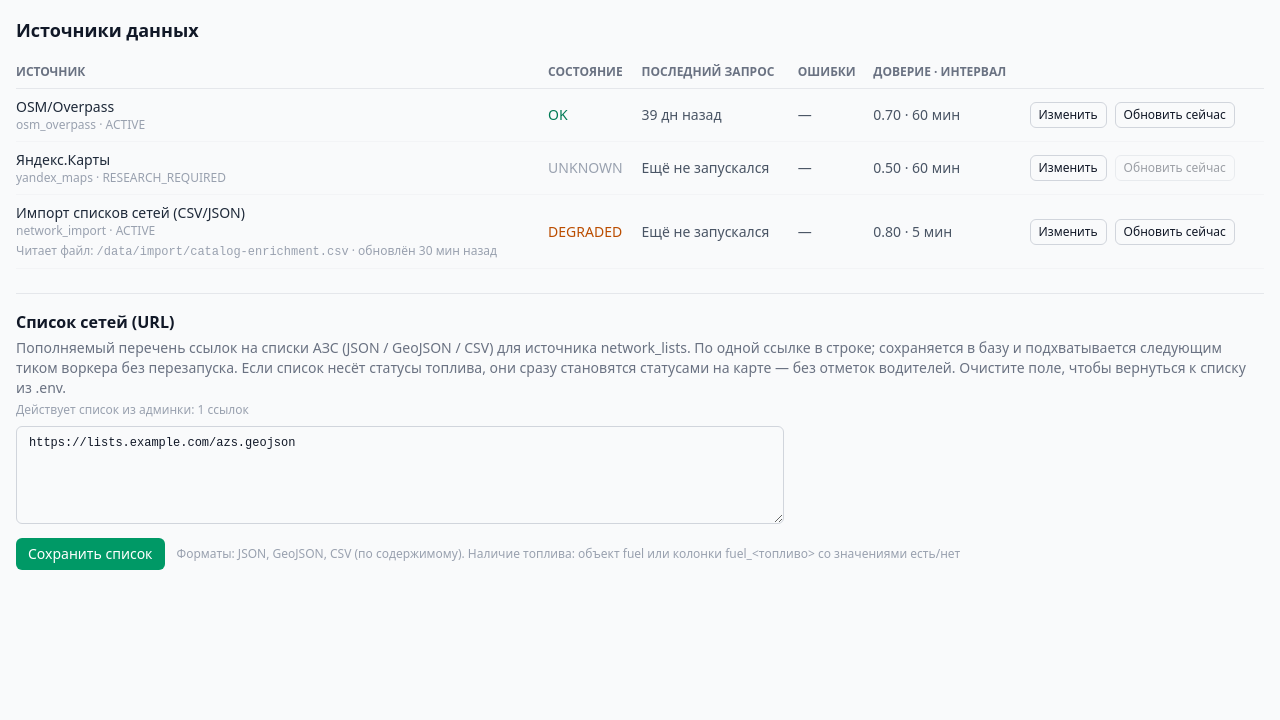
Scenario: AdminSourcesTable (R58) › ADMIN редактирует trust/статус/интервал — PATCH с изменёнными значениями
Expected: the text "OSM/Overpass" is shown, 16,97 -> 114,116
Click the button "Изменить" in the row of "OSM/Overpass": (1068, 115) 1030,102 -> 1107,128
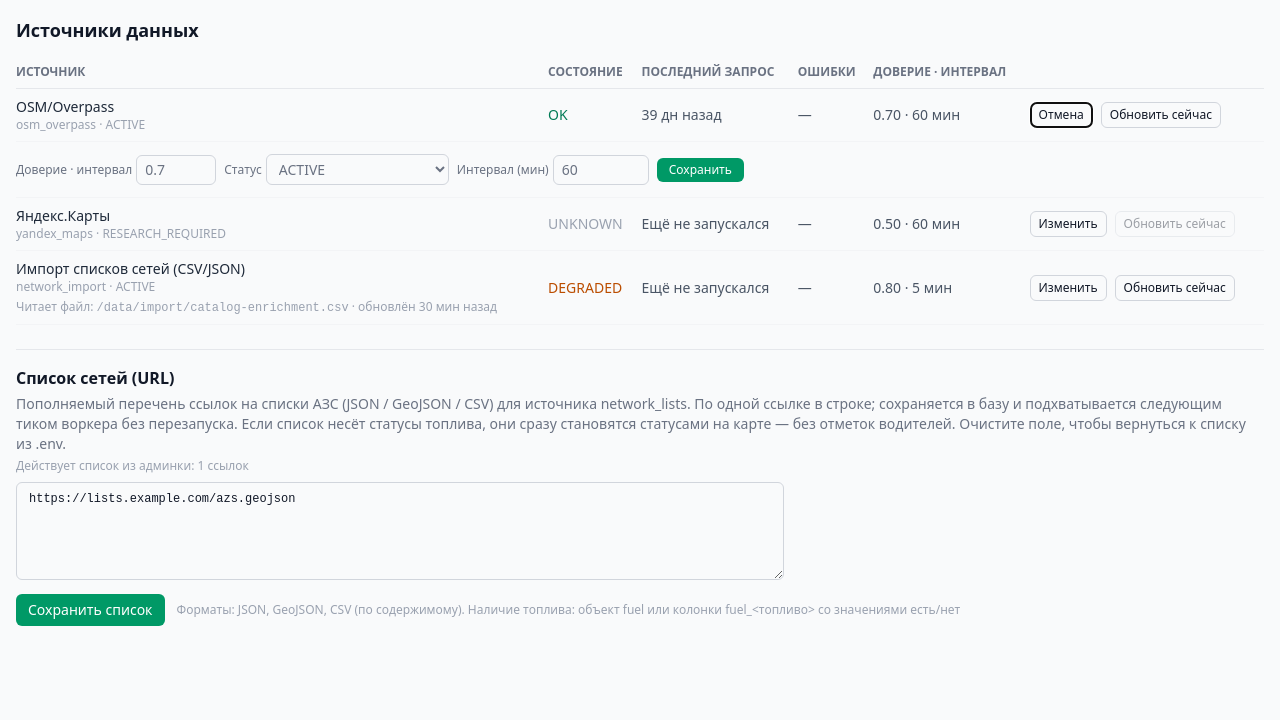
Replace the text in the number field showing "0.7" with "0.9": (176, 170) 136,154 -> 216,184
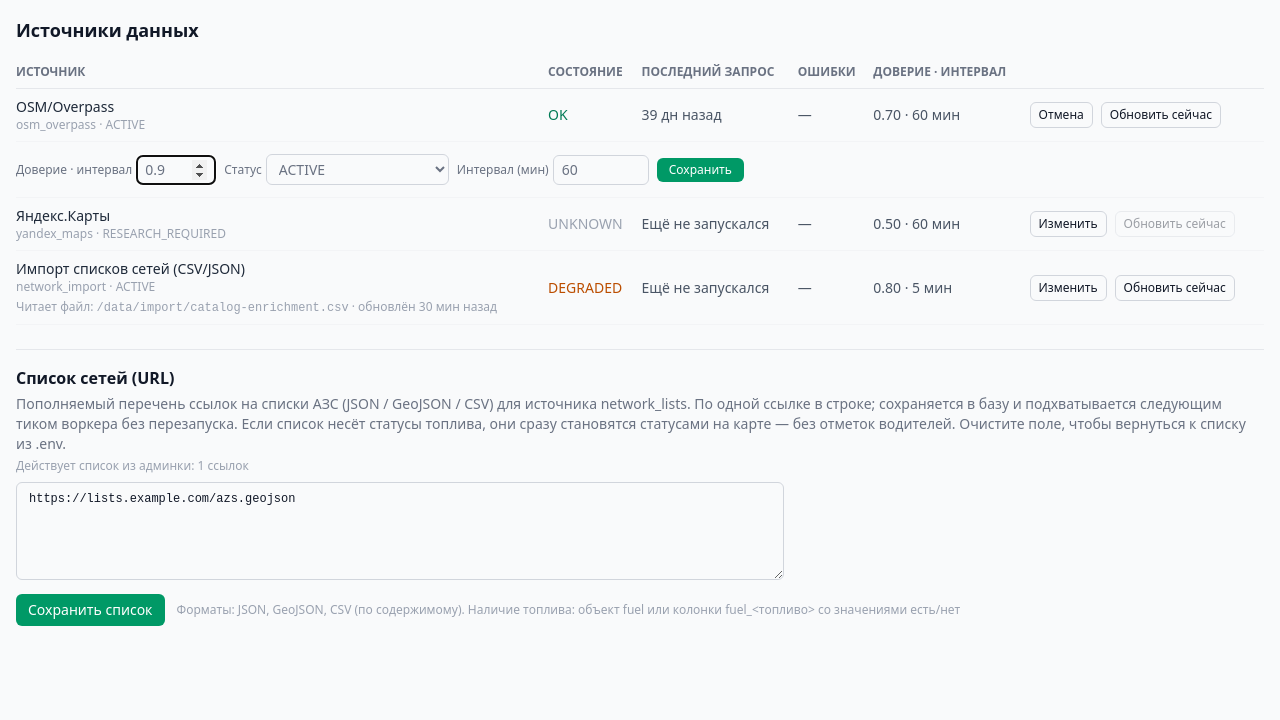
Replace the text in the number field showing "60" with "30": (601, 170) 553,154 -> 649,184
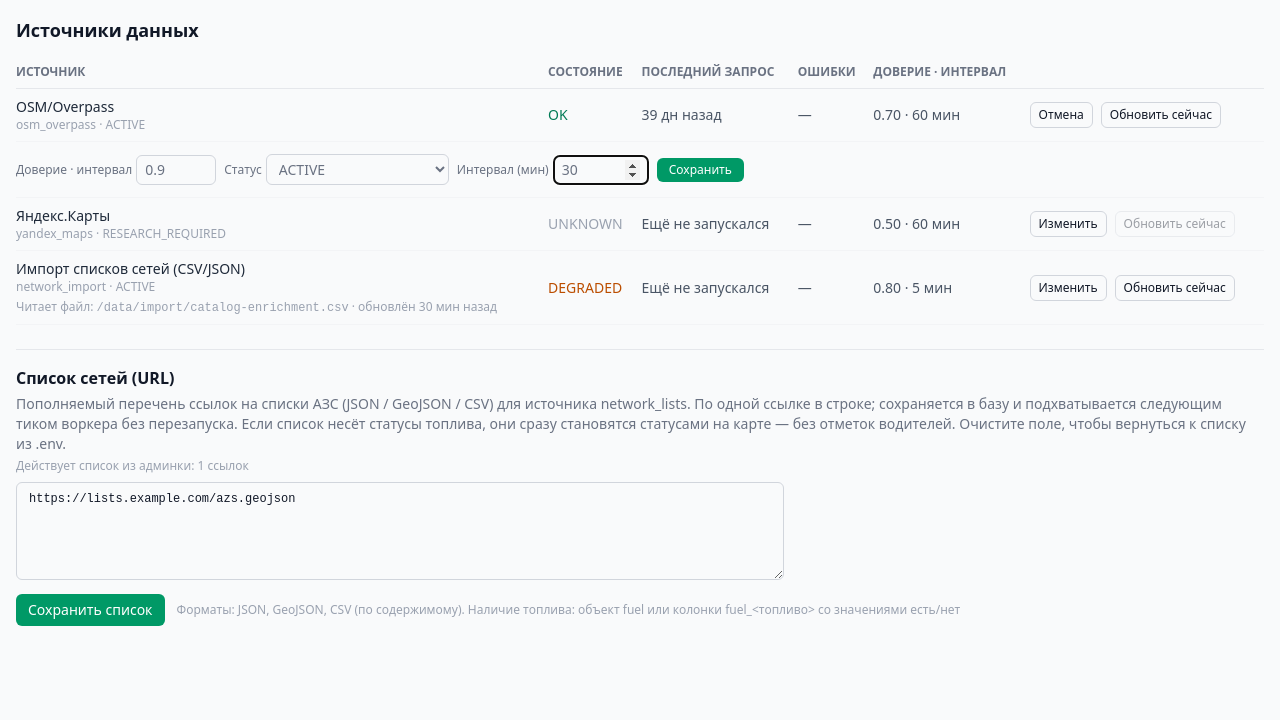
Click the button "Сохранить": (700, 170) 657,158 -> 744,182
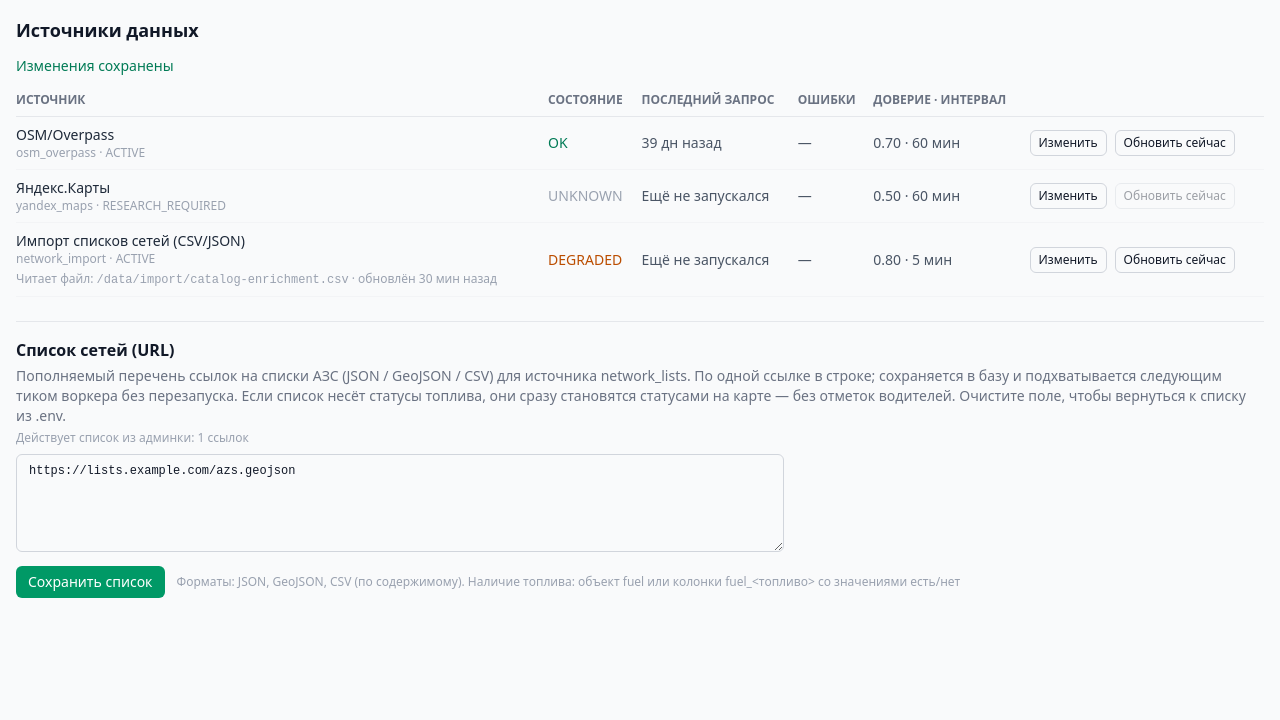
Now the text "Изменения сохранены" is shown, box 16,56 -> 174,75
